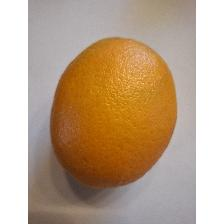Orange: (48, 34, 180, 188)
